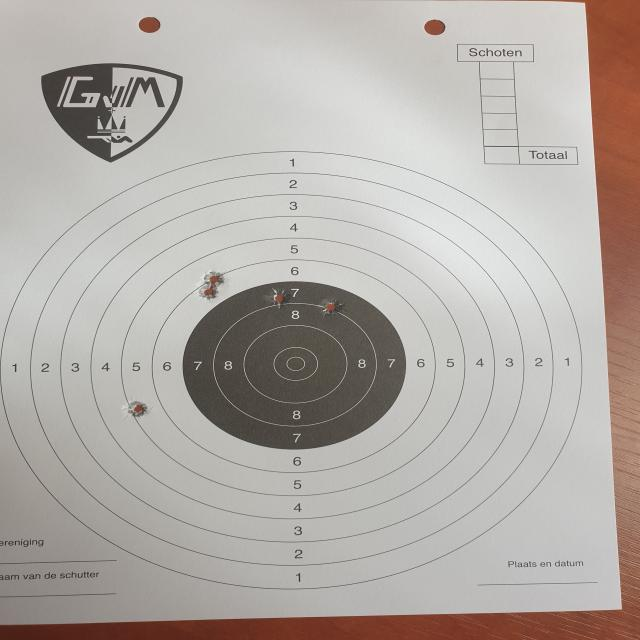5: (126, 400, 151, 420)
6: (201, 269, 229, 286), (196, 284, 221, 300)
8: (267, 289, 290, 309), (322, 300, 346, 318)
Target: (0, 151, 585, 592)
black_contour: (183, 280, 407, 450)
